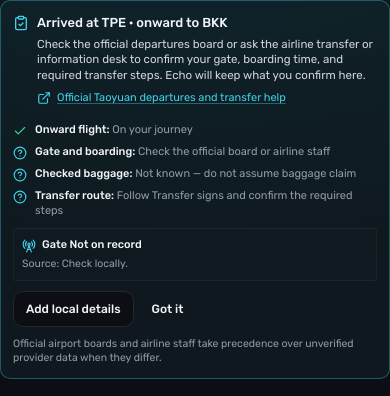
Test: local transfer verification › acknowledges once and reopens when asked
Step 1. Click the button "Got it" → x=167, y=309, box [140,291,195,327]
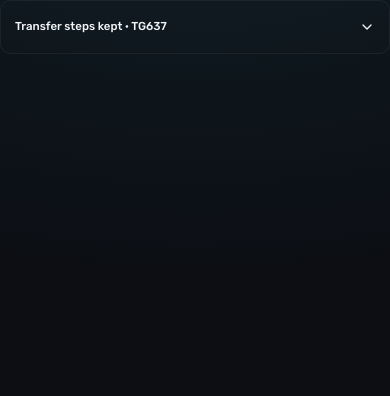
Now the button "Transfer steps kept · TG637" is shown
Step 2. Click the button "Transfer steps kept · TG637" → x=73, y=26, box [11,11,379,43]
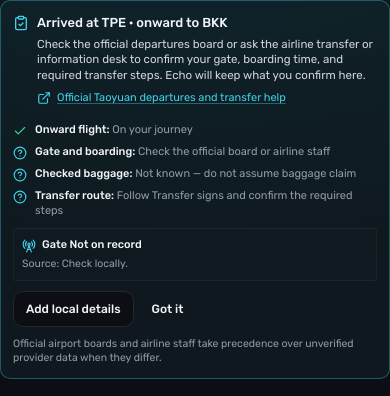
Now the text "official departures board" is shown, box [37,36,373,82]
